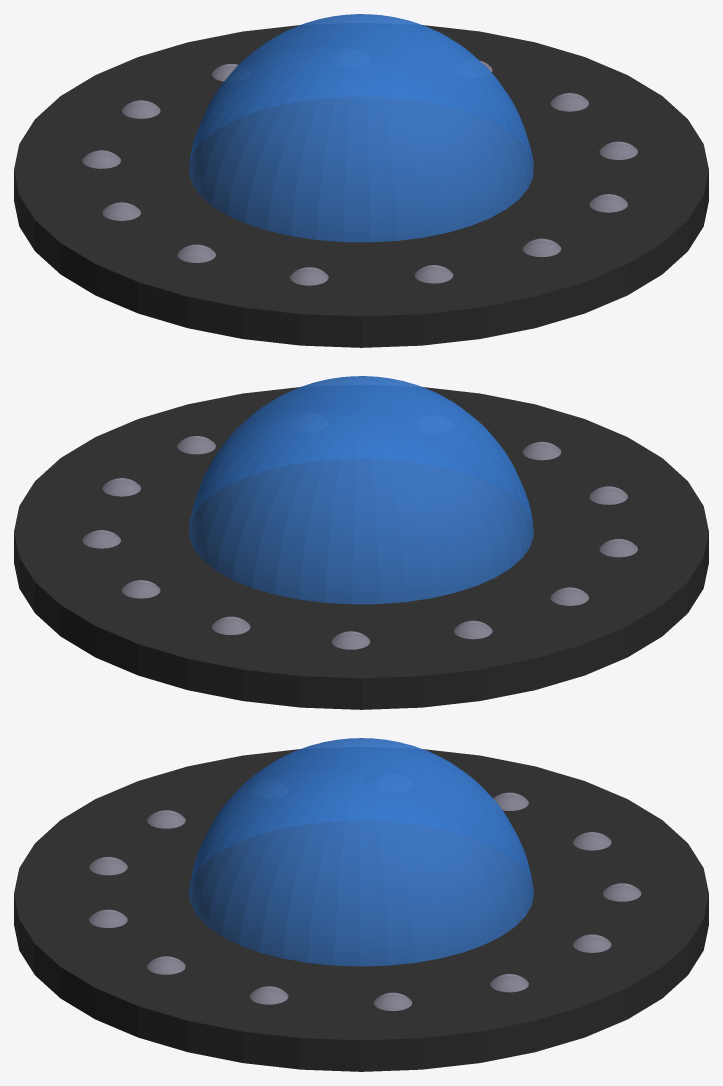
Rendered from Robert.fbx.
3 renders of one model, top to bottom at view 1: azimuth 30°, elevation 25°; view 2: azimuth 150°, elevation 25°; view 3: azimuth 270°, elevation 25°, orthographic.
Parts seen in each view (by area): view 1: Cylinder, Lathe, Lathe_1_8, Lathe_1_1, Lathe_1_5, Lathe_1_2, Lathe_1_3, Lathe_1_7, Lathe_1_4, Lathe_1_10, Lathe_1_9, Lathe_1_6; view 2: Cylinder, Lathe, Lathe_1_11, Lathe_1_5, Lathe_1_3, Lathe_1_12, Lathe_1_10, Lathe_1_6, Lathe_1_1, Lathe_1_2, Lathe_1_13, Lathe_1_9 (+1 smaller); view 3: Cylinder, Lathe, Lathe_1_1, Lathe_1_5, Lathe_1_12, Lathe_1_9, Lathe_1_8, Lathe_1_7, Lathe_1_13, Lathe_1_10, Lathe_1_6, Lathe_1_11.
Boxes of the visible parts, left/top/right/bottom form: Cylinder: left=14, top=25, right=708, bottom=347; Lathe: left=189, top=14, right=533, bottom=242; Lathe_1_8: left=589, top=194, right=627, bottom=212; Lathe_1_1: left=122, top=100, right=160, bottom=118; Lathe_1_5: left=290, top=267, right=328, bottom=285; Lathe_1_2: left=82, top=150, right=120, bottom=168; Lathe_1_3: left=102, top=202, right=140, bottom=220; Lathe_1_7: left=523, top=238, right=561, bottom=256; Lathe_1_4: left=177, top=244, right=215, bottom=262; Lathe_1_10: left=550, top=93, right=588, bottom=111; Lathe_1_9: left=599, top=141, right=637, bottom=159; Lathe_1_6: left=414, top=265, right=453, bottom=283; Cylinder: left=14, top=387, right=708, bottom=709; Lathe: left=189, top=376, right=533, bottom=604; Lathe_1_11: left=82, top=530, right=120, bottom=548; Lathe_1_5: left=589, top=486, right=627, bottom=504; Lathe_1_3: left=550, top=587, right=588, bottom=605; Lathe_1_12: left=122, top=580, right=160, bottom=598; Lathe_1_10: left=102, top=478, right=140, bottom=496; Lathe_1_6: left=523, top=441, right=561, bottom=460; Lathe_1_1: left=331, top=631, right=370, bottom=649; Lathe_1_2: left=454, top=620, right=492, bottom=639; Lathe_1_13: left=212, top=616, right=250, bottom=634; Lathe_1_9: left=177, top=436, right=215, bottom=454; Cylinder: left=14, top=749, right=708, bottom=1071; Lathe: left=189, top=738, right=533, bottom=966; Lathe_1_1: left=573, top=832, right=611, bottom=850; Lathe_1_5: left=147, top=810, right=185, bottom=828; Lathe_1_12: left=573, top=934, right=611, bottom=952; Lathe_1_9: left=250, top=986, right=288, bottom=1004; Lathe_1_8: left=147, top=956, right=185, bottom=974; Lathe_1_7: left=89, top=909, right=127, bottom=927; Lathe_1_13: left=603, top=883, right=641, bottom=901; Lathe_1_10: left=373, top=992, right=411, bottom=1010; Lathe_1_6: left=89, top=857, right=127, bottom=875; Lathe_1_11: left=490, top=974, right=528, bottom=992.
Bounding box in the file's own units: 400 × 109 × 400.
